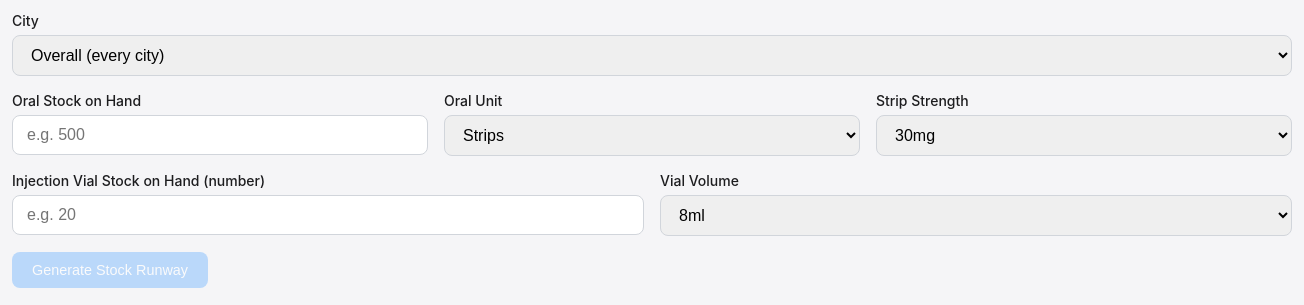
StockRunwayReport — form interaction › entering a vial stock value alone also enables Generate
In the number field labelled "Injection Vial Stock on Hand (number)": {"x": 328, "y": 215} [12,195,644,235], type "20"
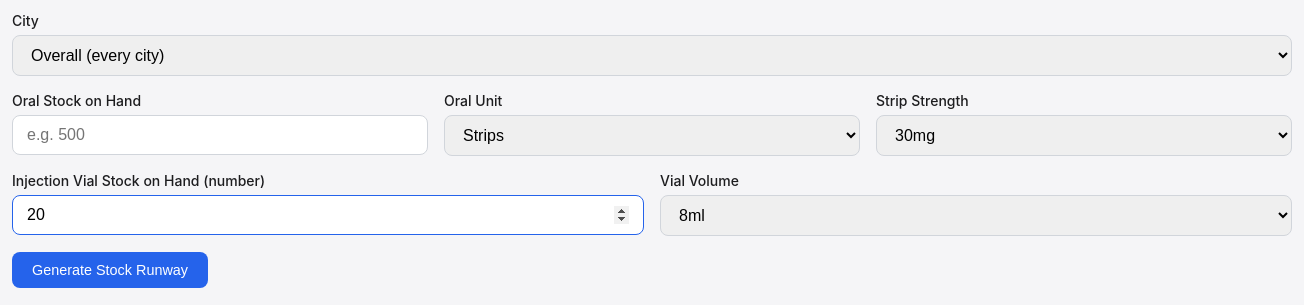
Now the button "Generate Stock Runway" is enabled, box [12,252,208,288]
